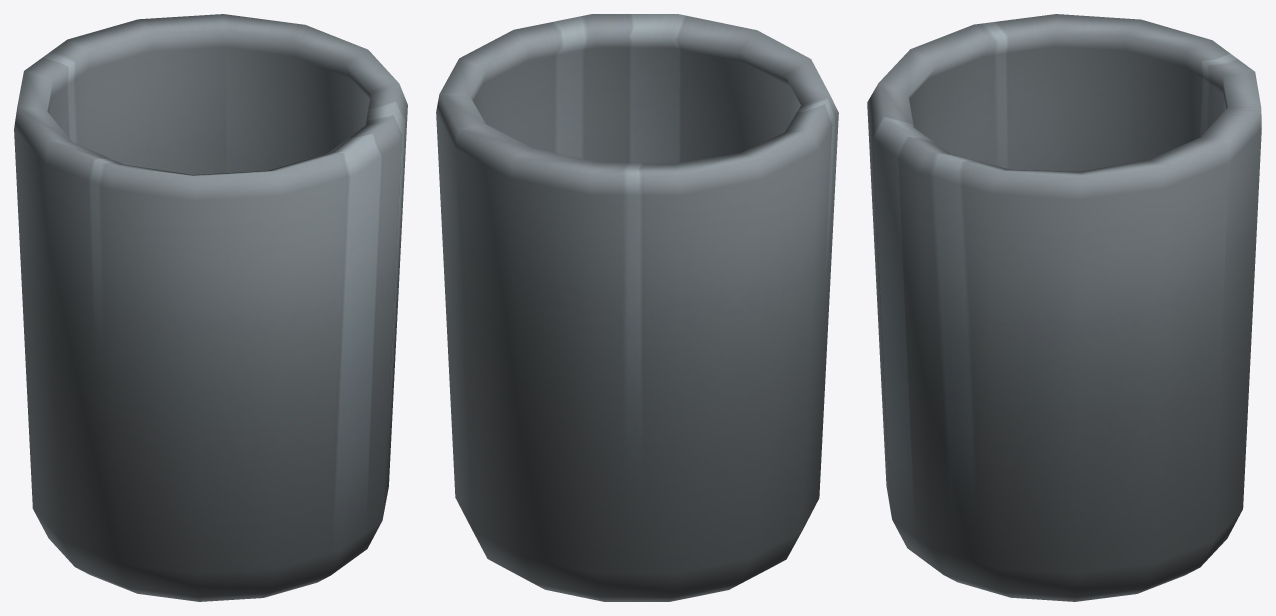
The model's file is frl_apartment_kitchen_utensil_06.glb.
3 renders of one model, left to right at view 1: azimuth 30°, elevation 25°; view 2: azimuth 150°, elevation 25°; view 3: azimuth 270°, elevation 25°, orthographic.
Visible parts, largest first — view 1: frl_apartment_kitchen_utensil_06; view 2: frl_apartment_kitchen_utensil_06; view 3: frl_apartment_kitchen_utensil_06.
Boxes of the visible parts, box(x1,y1,x2,y2) form: frl_apartment_kitchen_utensil_06: box(14, 14, 407, 601); frl_apartment_kitchen_utensil_06: box(436, 14, 838, 601); frl_apartment_kitchen_utensil_06: box(867, 14, 1261, 601).
Bounding box in the file's own units: 0.1006 × 0.1239 × 0.0997.
1 material, 1 textured.
